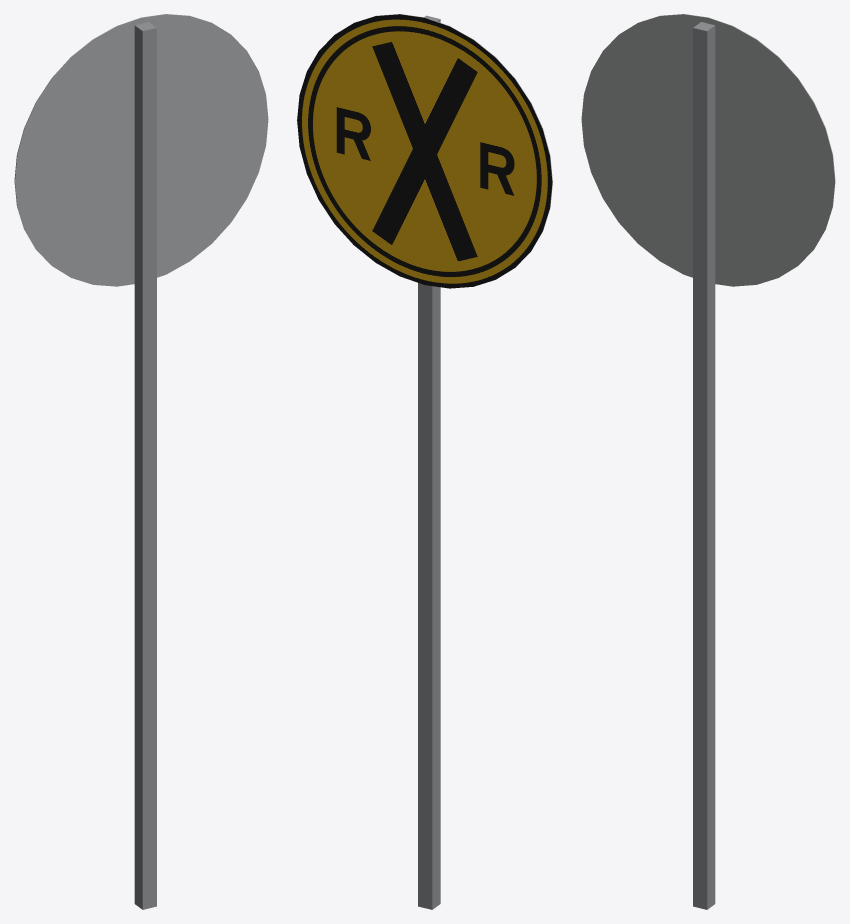
Rendered from sign_w10-1_railroad.glb.
3 views of the same model, side by side, from view 1: azimuth 30°, elevation 25°; view 2: azimuth 150°, elevation 25°; view 3: azimuth 330°, elevation 25° (orthographic).
Visible parts, largest first — view 1: sign_w10-1_railroad; view 2: sign_w10-1_railroad; view 3: sign_w10-1_railroad.
Part boxes in pixels (x1,y1,x2,y2): sign_w10-1_railroad: (14, 14, 268, 909); sign_w10-1_railroad: (297, 14, 552, 909); sign_w10-1_railroad: (581, 14, 835, 909).
Size of the model in its own units: 0.9144 by 3.05 by 0.0538.
Materials: 3 (1 with a texture image).
